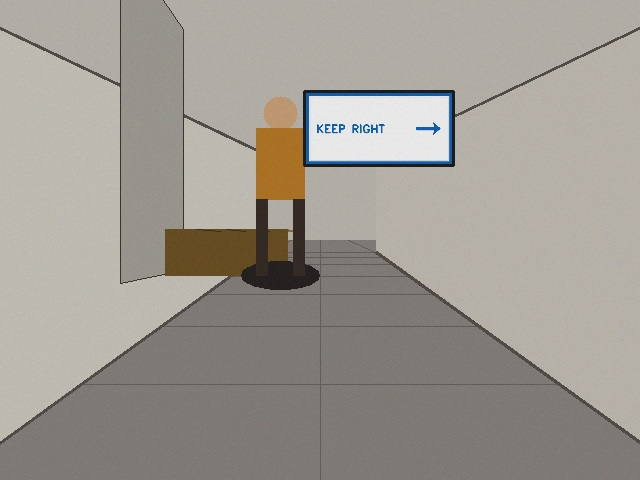directional_sign: (304, 91, 453, 165)
pallet: (165, 229, 294, 275)
person: (245, 96, 315, 275)
